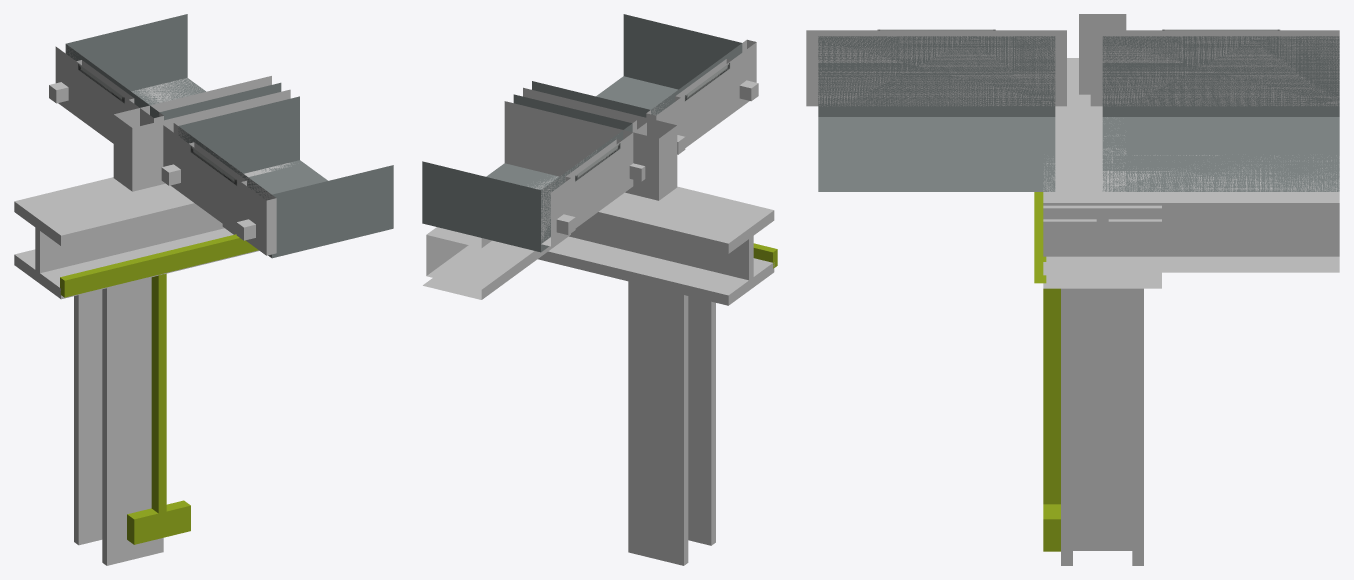
File: cell_18.obj
3 views of the same model, side by side, from view 1: azimuth 30°, elevation 25°; view 2: azimuth 150°, elevation 25°; view 3: azimuth 270°, elevation 25° (orthographic). The views are drawn at different scales.
Bounding box in the file's own units: 0.6 × 1 × 0.9.
